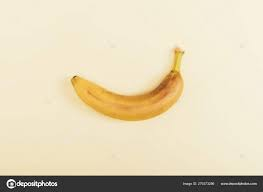banana: (69, 49, 189, 121)
